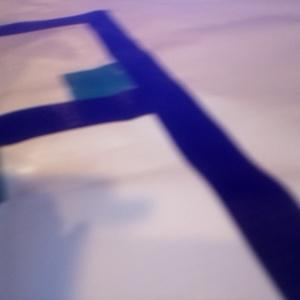top_left: (64, 62, 158, 113)
